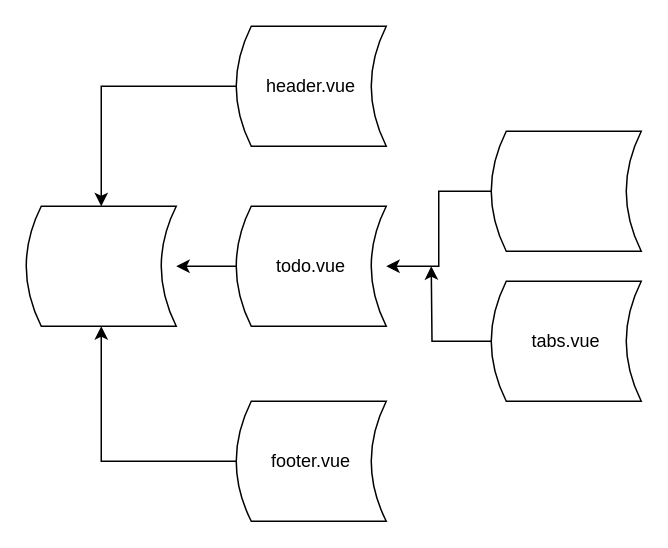
Some shapes in this 668 by 548 pixel diagram are drawn without their labels. The shapes that lost their labels are listed below. From the top down, each one's box as (x1, y1, x2, y2) in pixels, then its label:
(490, 130, 641, 251): item.vue
(25, 205, 176, 326): app.vue
